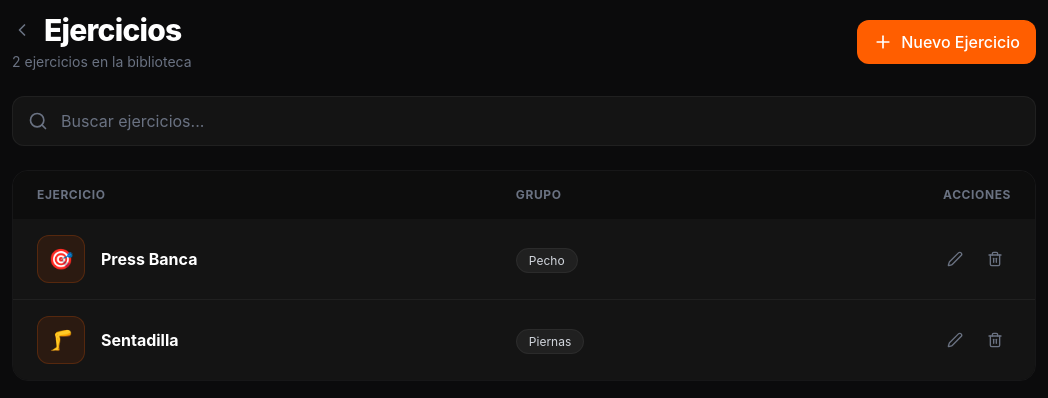
Test: AdminEjerciciosPage — catálogo sin nivel/tipo_lugar (R2/R3) › la búsqueda sigue funcionando por grupo_muscular
The width and height of the screenshot is (1048, 398).
Expected: the text "Press Banca" is shown, x1=101 y1=245 x2=197 y2=273
Type "pecho" into the field with placeholder "Buscar ejercicios...".
click(524, 121); type("pecho")  # box x1=12 y1=96 x2=1036 y2=146
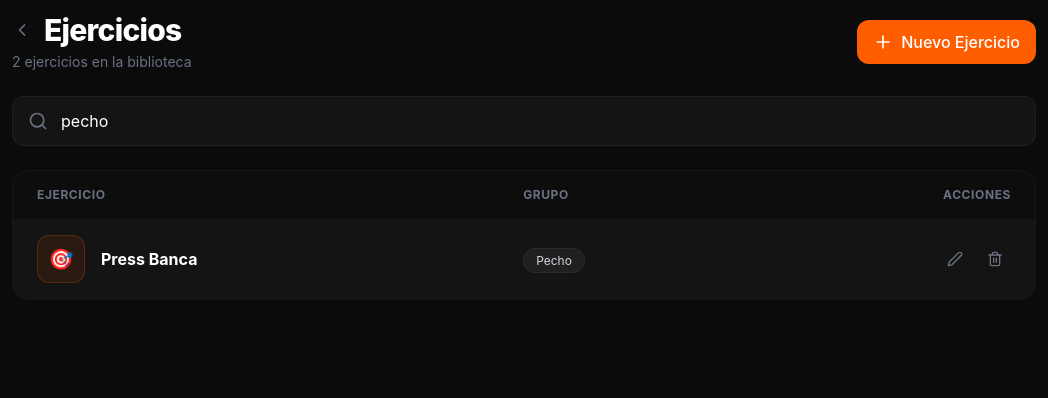
Expected: the text "Press Banca" is shown, x1=101 y1=245 x2=197 y2=273
Expected: the text "Sentadilla" is not shown
